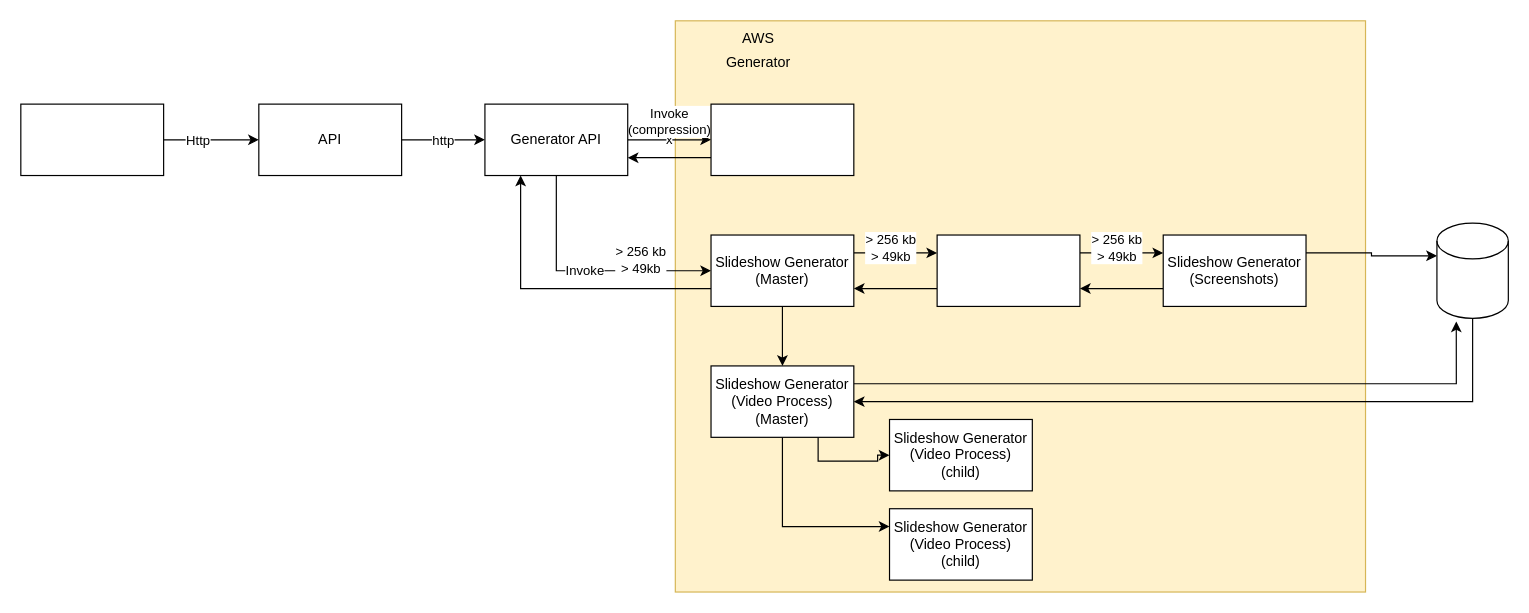
The diagram is 1529 pixels wide and 613 high, and some of its shapes have lost their labels. The shapes that lost their labels are listed below. From the top down, each one's box as (x1, y1, x2, y2) in pixels, then its label:
(20, 103, 164, 176): UI
(710, 103, 854, 176): PDF Generator
(936, 234, 1080, 306): Slideshow Generator (Trigger)
(1436, 222, 1508, 318): S3
